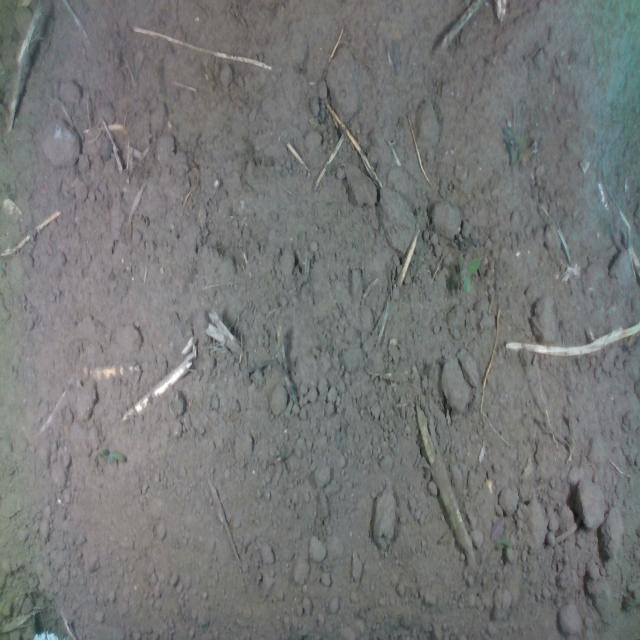weed: (100, 445, 126, 463)
